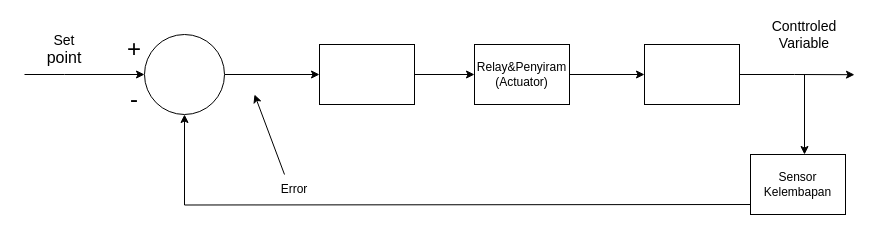
Image size: 880x232. Some labels were removed from this diagram. Here are the shapes that lost their labels. From the top down, the centre of each, then its label:
the point at 366,74: Arduino uno (Controller)
the point at 692,74: Penyiraman tanaman (Process)
